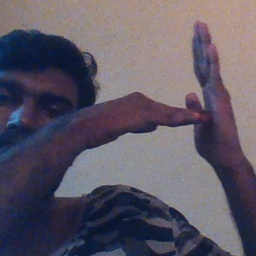Z: (132, 21, 245, 167)
